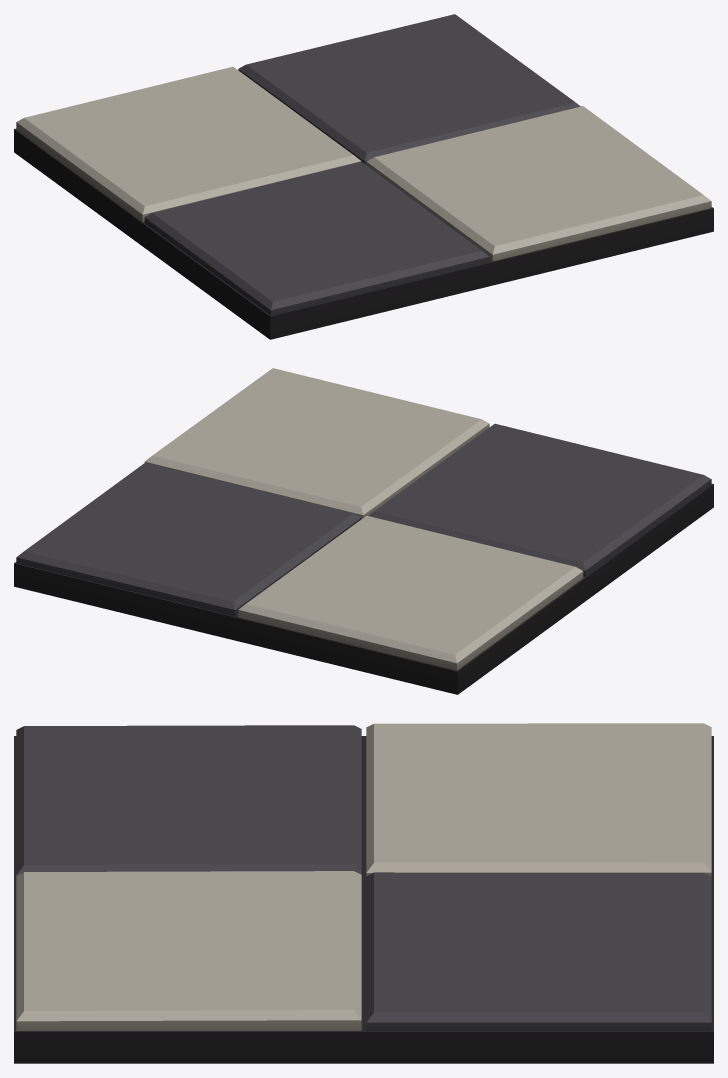
Rendered from floor_checker_small_A.glb.
3 views of the same model, one above another, from view 1: azimuth 30°, elevation 25°; view 2: azimuth 150°, elevation 25°; view 3: azimuth 270°, elevation 25° (orthographic). The views are drawn at different scales.
Visible parts, largest first — view 1: Item; view 2: Item; view 3: Item.
Part boxes in pixels (x1=…): Item: x1=14, y1=14, x2=713, y2=339; Item: x1=14, y1=368, x2=713, y2=694; Item: x1=14, y1=723, x2=713, y2=1063.
Size of the model in its own units: 2 by 0.1556 by 2.
2 materials, 2 textured.
